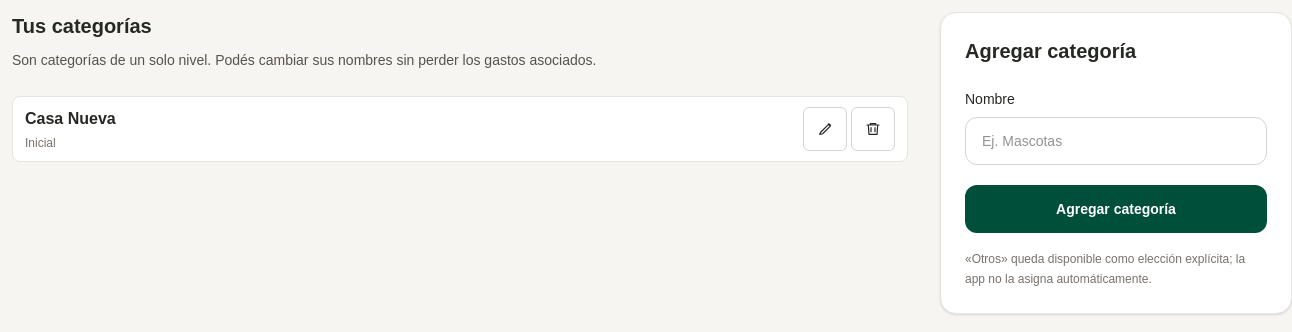
Test: gestión de categorías › renombra una categoría inicial sin ofrecer jerarquía ni borrado
Click the button named "Renombrar Casa Nueva". click: click(825, 129)
box: [803,107,847,151]
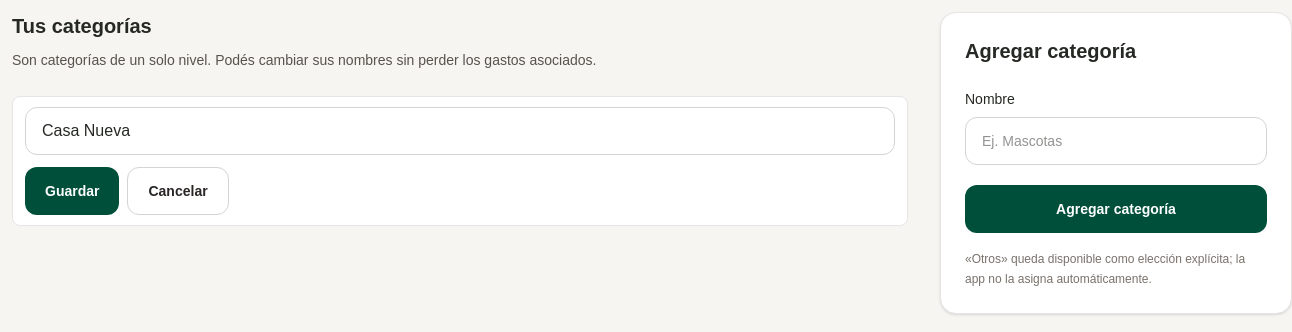
Replace the text in the field named "Nuevo nombre" with "Obra de casa". click: (460, 131)
box: [25,107,895,155]
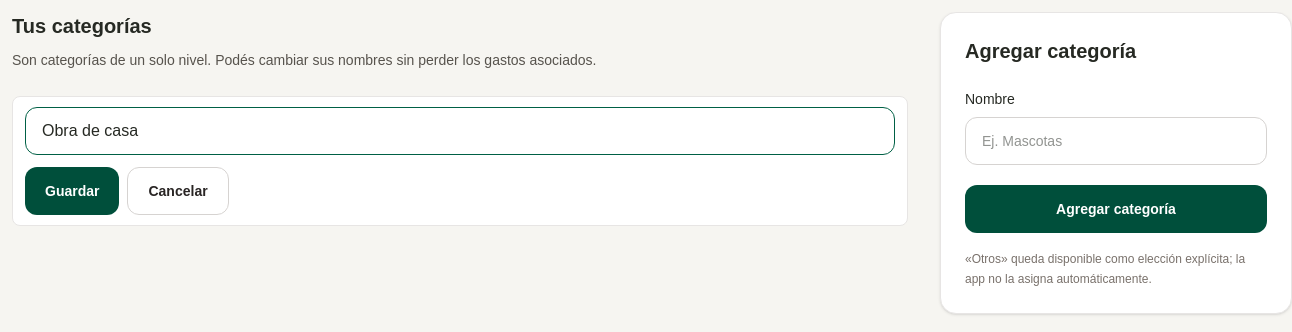
Click the button "Guardar". click: click(72, 191)
box: [25,167,120,215]
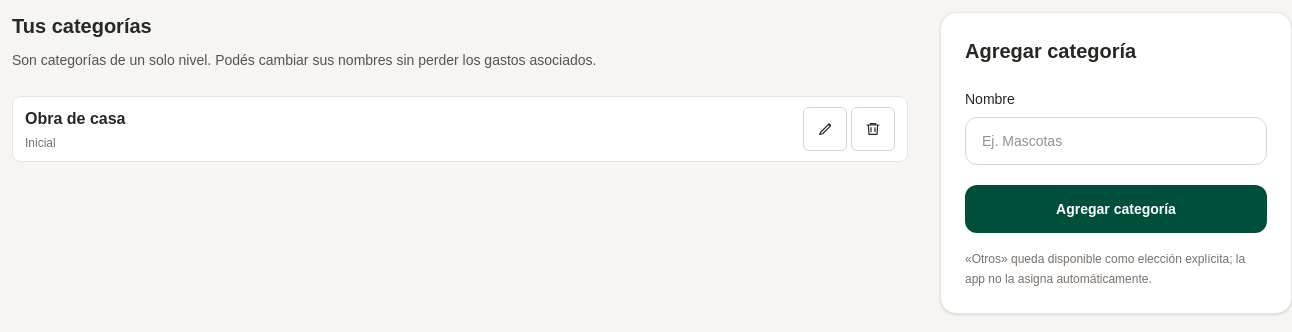
Result: the text "Obra de casa" is shown at [25,107,126,131]
Result: the text "Inicial" is shown at [25,136,56,150]
